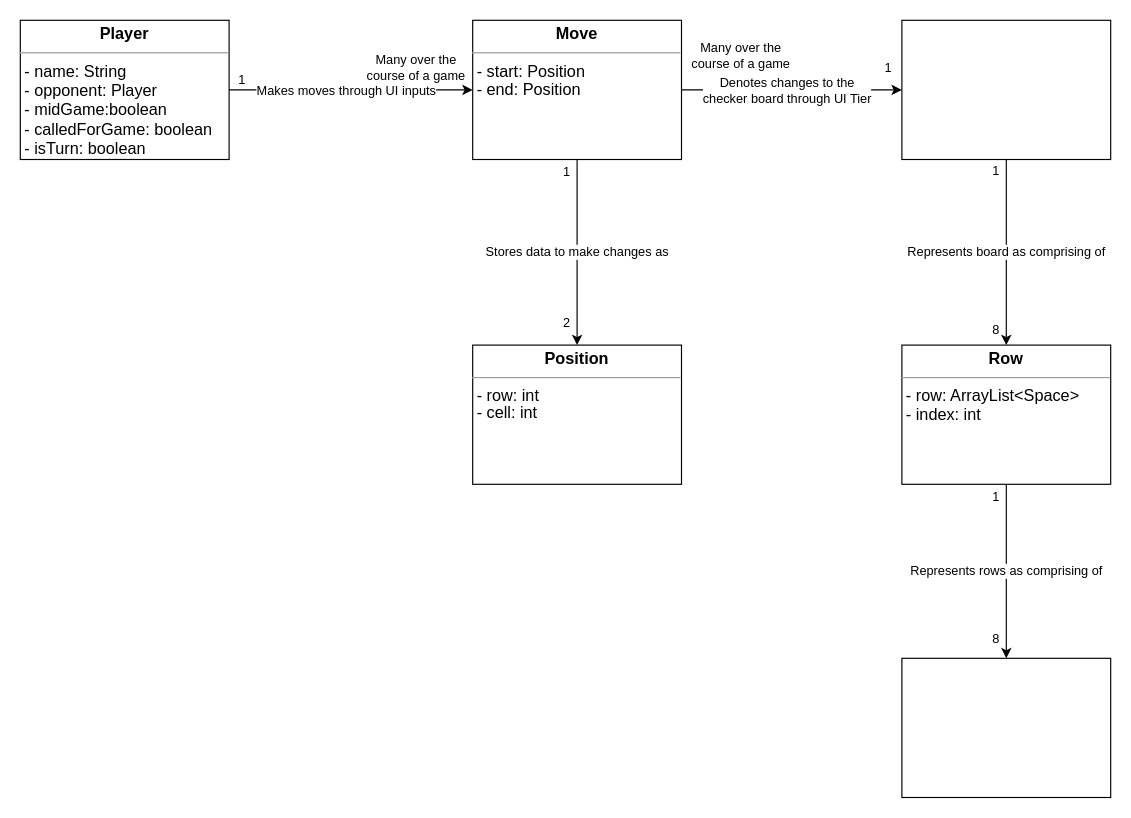
This 1131x818 diagram has some shape labels left out. The centre of each missing label's shape, as x and y in pixels:
"BoardView - board: ArrayList<Row>" belongs at (x=1006, y=89).
"Space - piece: Piece - cellIdx: int - color: SpaceColor (RED, BLACK)" belongs at (x=1006, y=727).
